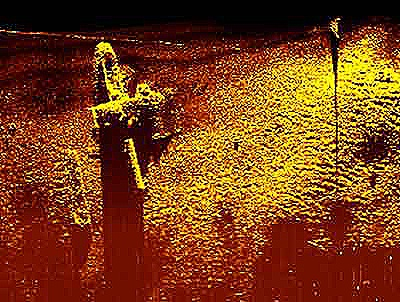aircraft: (85, 39, 193, 191)
